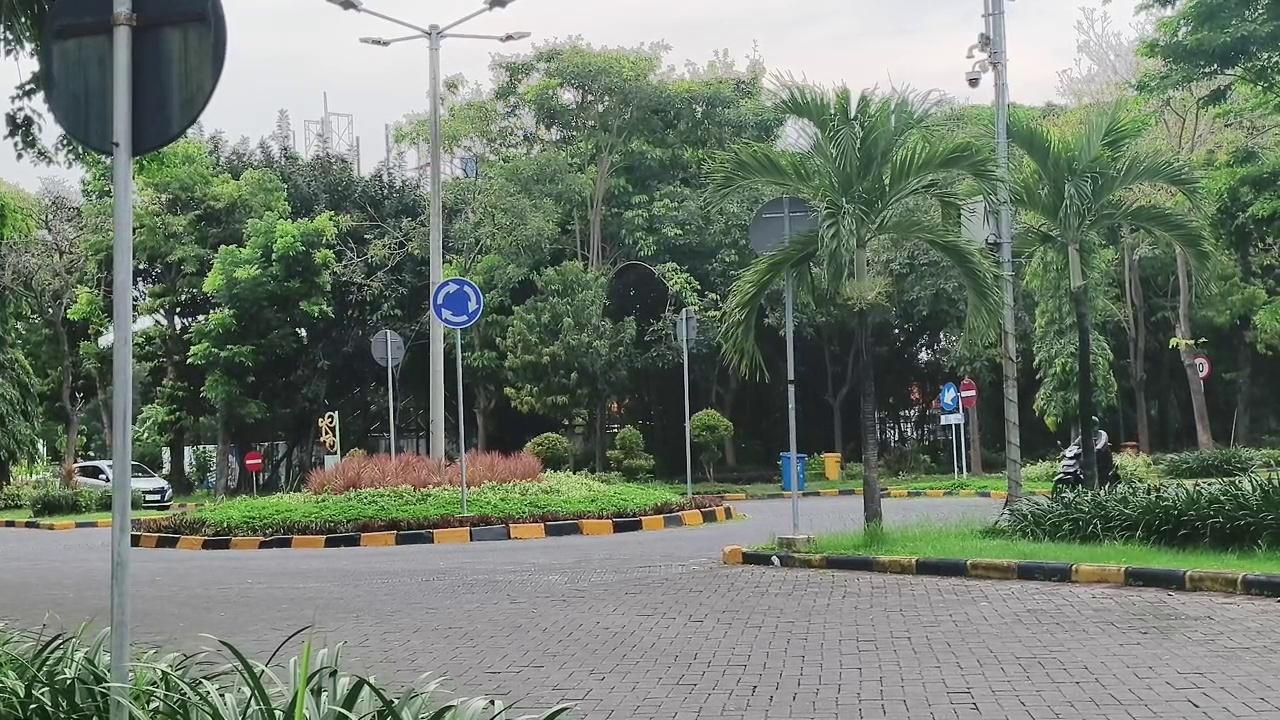Motor: (1095, 430, 1118, 487)
